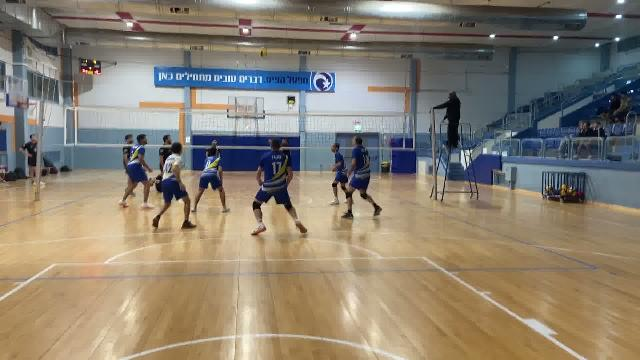ball: (256, 45, 269, 57)
